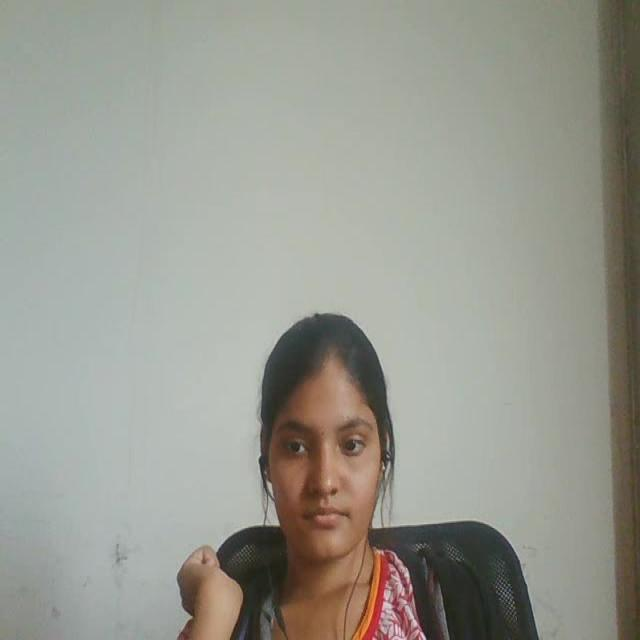Engaged: (229, 284, 422, 579)
